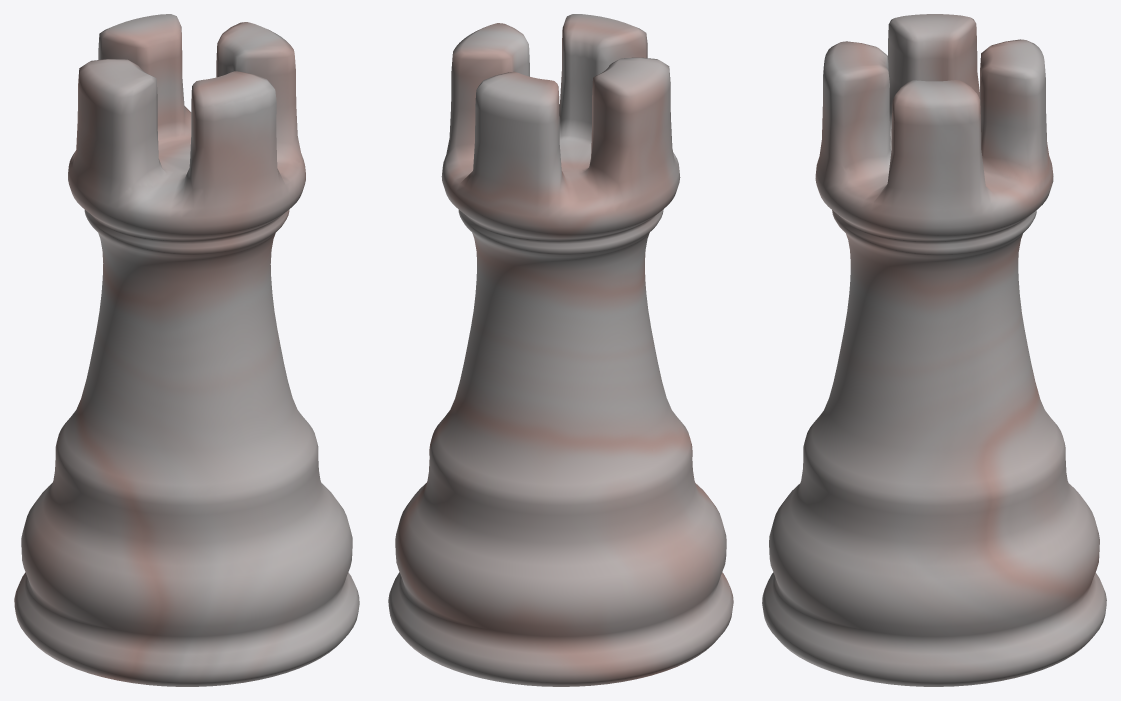
Rendered from whiteRook.fbx.
3 renders of one model, left to right at view 1: azimuth 30°, elevation 25°; view 2: azimuth 150°, elevation 25°; view 3: azimuth 270°, elevation 25°, orthographic.
Visible parts, largest first — view 1: whiteRook; view 2: whiteRook; view 3: whiteRook.
Boxes of the visible parts, x1,y1,x2,y2 form: whiteRook: [14, 14, 359, 686]; whiteRook: [388, 14, 733, 686]; whiteRook: [762, 14, 1106, 686].
Size of the model in its own units: 70 by 128 by 70.
Materials: 1 (1 with a texture image).
